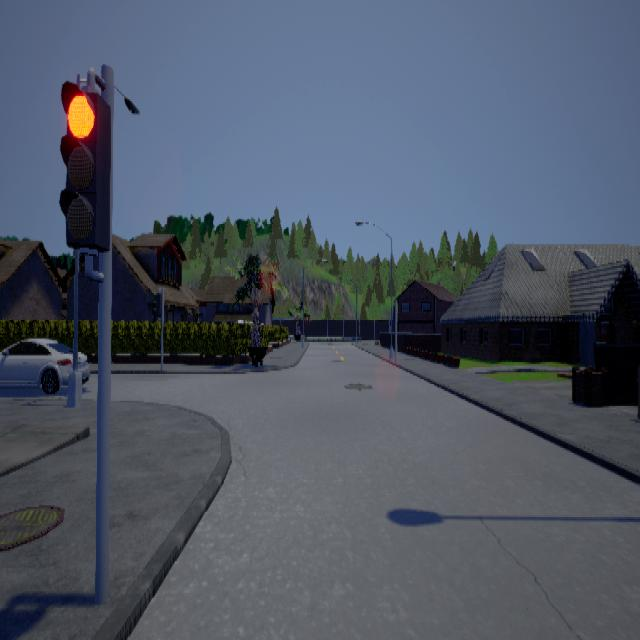red_light: (60, 66, 112, 281)
vehicle: (1, 337, 90, 392)
